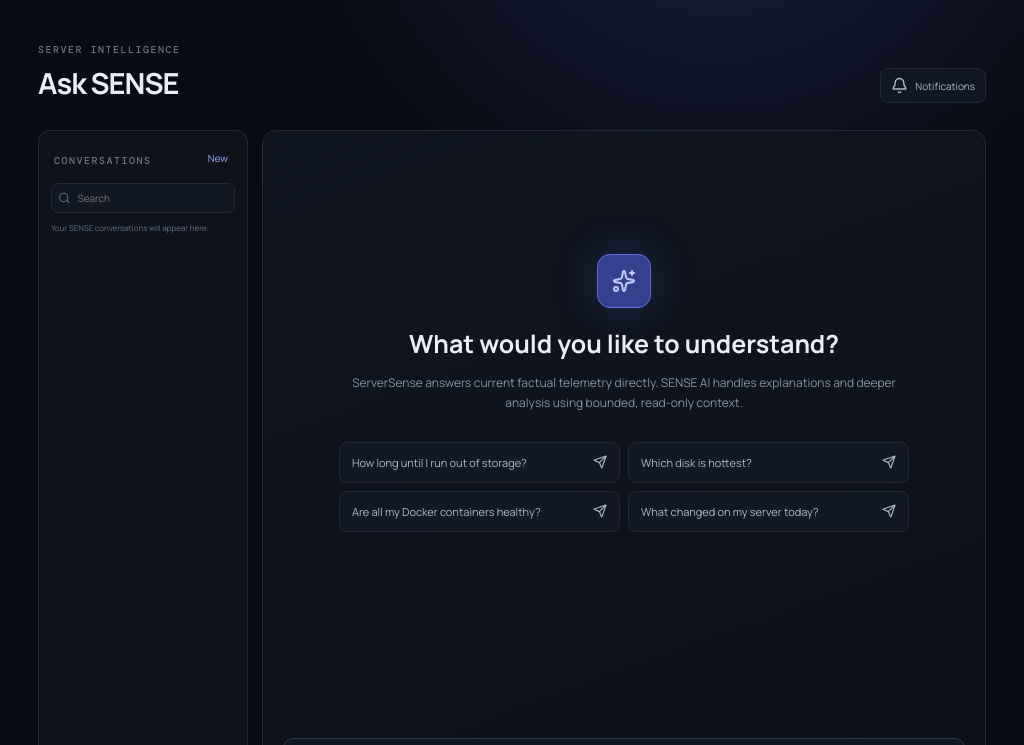
Scenario: SENSE requests › keeps streaming after the long-running threshold and allows notification control
What coordinates should you click on to do the following:
click the button "How long until I run out of storage?"
I would click on:
 (480, 462)
Its box is [339,442,620,483].
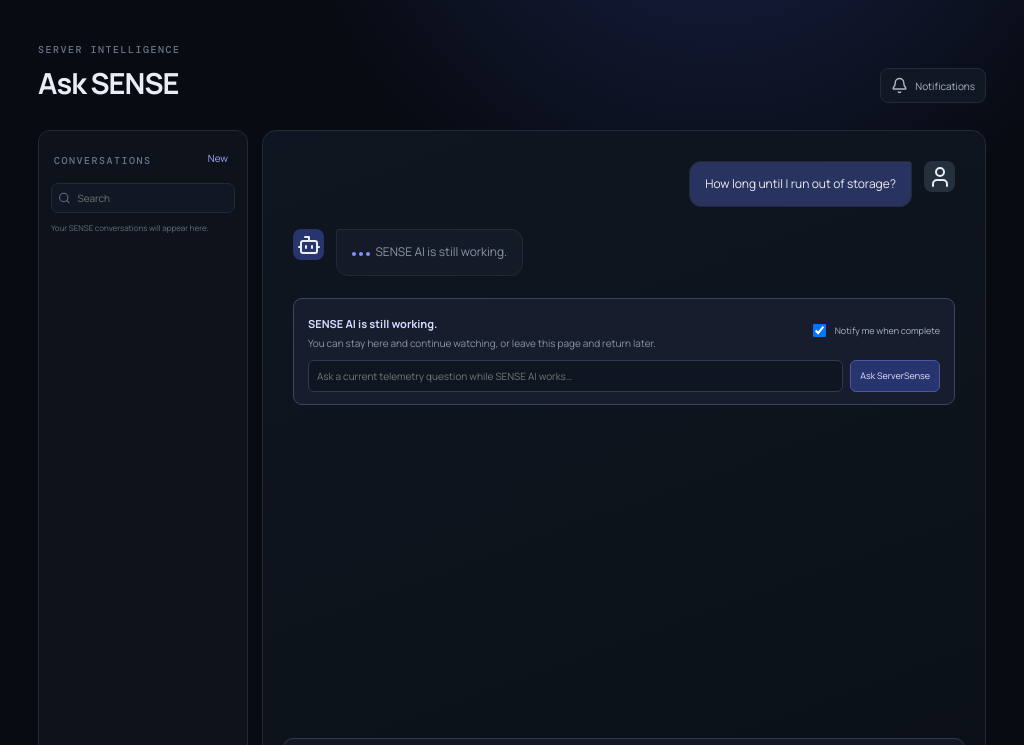
Result: the text "SENSE AI is still working." is shown at [352,242,507,263]
Result: the number of checkboxes labelled "Notify me when complete" is 1
What coordinates should you click on to do the following:
click the checkbox labelled "Notify me when complete"
I would click on:
 (819, 330)
Its box is [813,324,826,337].
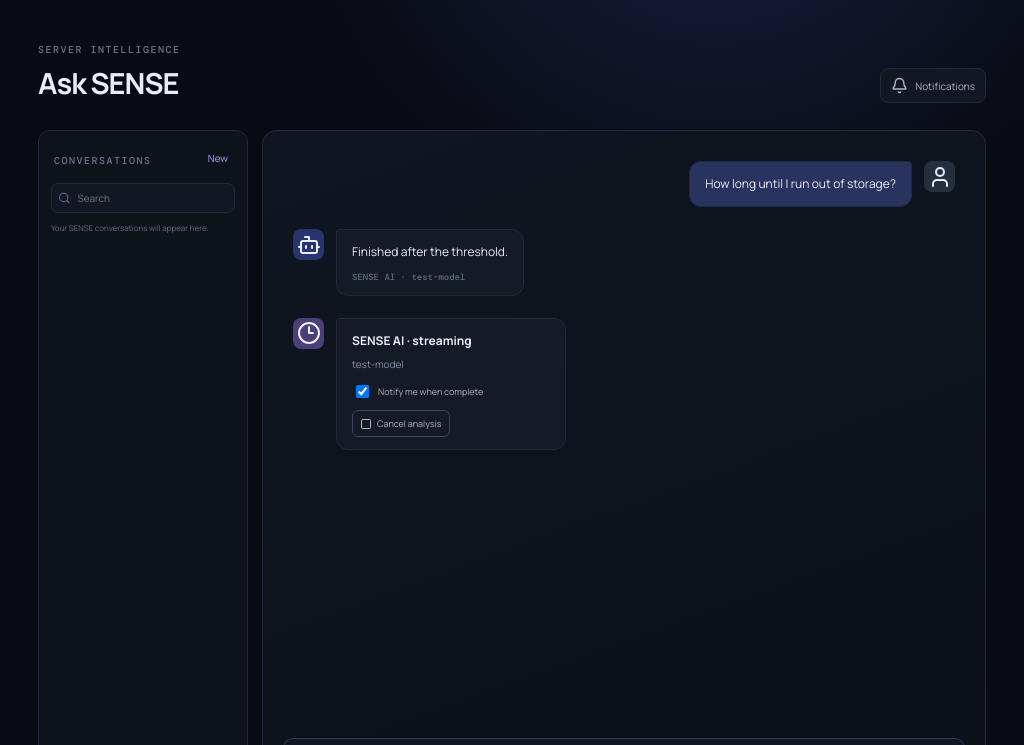
Result: the text "Finished after the threshold." is shown at [352,242,508,263]
